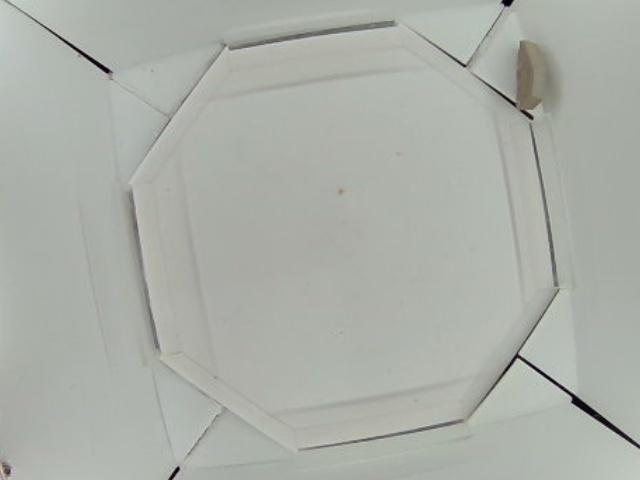China: (516, 40, 550, 112)
